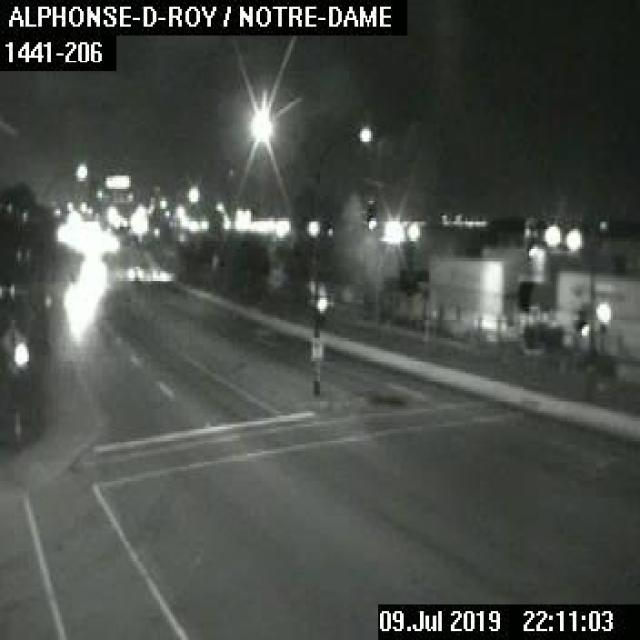vehicle: (122, 258, 148, 280), (148, 263, 168, 282)
